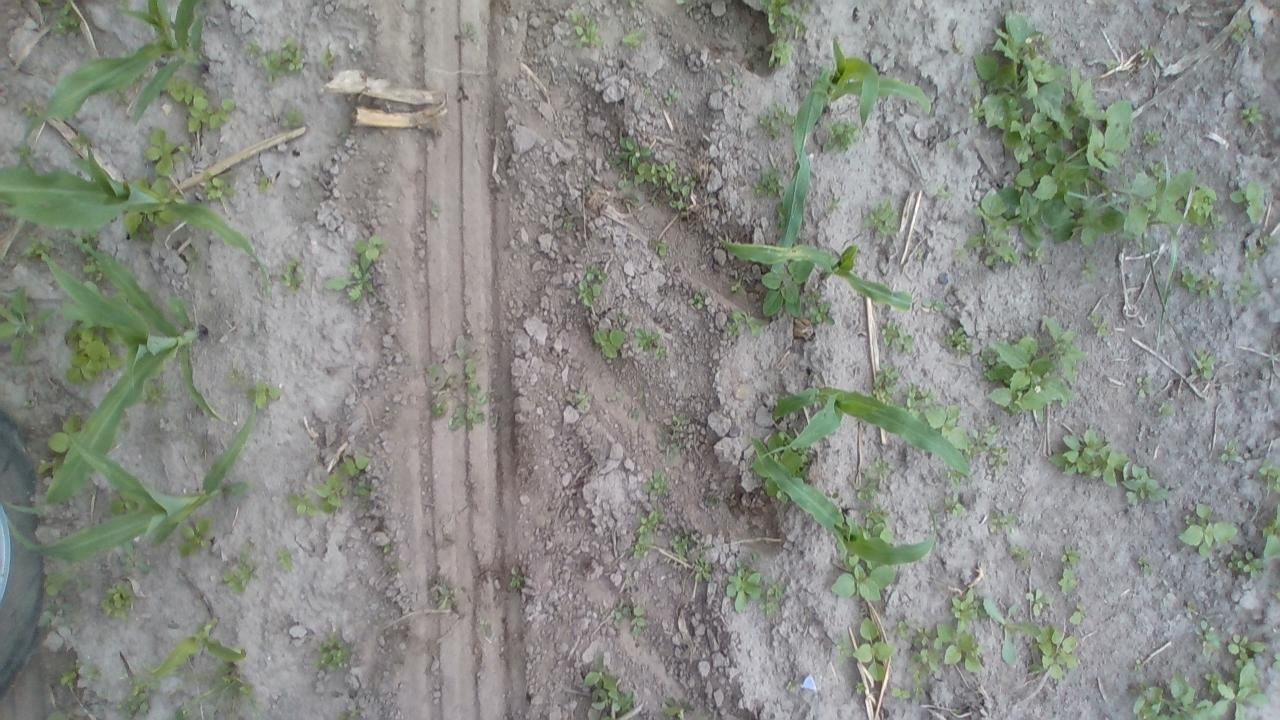Maize: (2, 235, 230, 514), (0, 386, 257, 566), (0, 144, 261, 270), (20, 0, 203, 176), (749, 437, 935, 568), (756, 386, 973, 477), (722, 237, 912, 309), (825, 34, 933, 128), (151, 615, 244, 678)
Weeds: (978, 9, 1198, 245), (1044, 428, 1169, 506), (986, 312, 1080, 412), (1130, 661, 1264, 720), (612, 133, 692, 212), (320, 233, 388, 303), (423, 359, 488, 431), (912, 621, 982, 683), (982, 596, 1041, 666), (0, 282, 53, 356), (166, 77, 234, 131), (188, 667, 260, 717), (1178, 501, 1238, 556), (760, 0, 809, 67), (850, 614, 896, 682), (64, 328, 124, 378), (760, 260, 811, 317), (241, 36, 304, 82), (583, 670, 639, 720), (827, 564, 899, 602), (144, 124, 190, 178), (925, 401, 971, 454), (1036, 624, 1078, 680), (968, 226, 1018, 268), (220, 542, 258, 596), (312, 628, 356, 672), (725, 568, 763, 614), (1230, 179, 1268, 224), (629, 509, 665, 556), (99, 580, 141, 618), (820, 118, 864, 152), (177, 516, 214, 556), (48, 412, 82, 455), (770, 432, 810, 468), (860, 199, 901, 234), (568, 12, 606, 49), (755, 103, 793, 140), (656, 413, 688, 456), (611, 603, 645, 643), (1193, 618, 1223, 662), (1227, 633, 1268, 665), (1191, 178, 1216, 226), (902, 382, 934, 419), (1226, 550, 1268, 577), (316, 472, 344, 512), (122, 683, 157, 715), (1261, 501, 1280, 559), (728, 307, 760, 341), (969, 417, 1000, 452), (248, 382, 286, 410), (594, 324, 626, 357), (52, 4, 81, 40), (1178, 269, 1218, 295), (21, 236, 61, 262), (581, 268, 608, 306), (282, 256, 310, 292), (952, 587, 982, 620), (1188, 345, 1218, 378), (874, 365, 900, 402), (879, 322, 916, 348), (864, 509, 893, 542), (1025, 590, 1054, 622), (752, 170, 785, 197), (195, 172, 230, 197), (940, 492, 969, 521), (123, 543, 149, 574), (284, 491, 316, 516), (338, 456, 374, 478), (1260, 454, 1280, 492), (686, 290, 714, 317), (644, 472, 670, 501), (60, 660, 82, 692), (984, 446, 1010, 473), (1216, 439, 1242, 466), (991, 509, 1019, 534), (633, 327, 661, 351), (1236, 278, 1266, 300), (691, 552, 712, 583), (42, 572, 74, 592), (856, 482, 886, 503), (1068, 600, 1092, 624), (946, 326, 968, 352), (864, 458, 894, 477), (1088, 312, 1108, 340), (671, 535, 694, 559), (1142, 124, 1166, 146), (1230, 18, 1252, 42), (1058, 568, 1078, 594), (833, 638, 856, 660), (774, 202, 788, 237), (810, 302, 832, 324), (1136, 552, 1158, 574), (278, 546, 298, 570), (574, 384, 592, 410), (1244, 100, 1262, 126), (1009, 546, 1032, 566), (125, 212, 142, 238), (1060, 545, 1082, 565), (322, 40, 336, 71), (661, 86, 682, 106), (110, 498, 140, 512), (1134, 374, 1150, 400), (622, 28, 642, 48), (510, 566, 526, 591), (666, 704, 690, 720), (1080, 261, 1100, 280), (944, 470, 966, 487), (921, 298, 944, 314), (768, 580, 787, 599), (282, 109, 306, 124), (1244, 248, 1266, 264), (147, 381, 162, 403), (935, 186, 957, 201), (1201, 237, 1216, 258), (891, 688, 916, 700), (898, 620, 914, 638), (45, 710, 72, 720), (759, 602, 781, 614), (154, 212, 174, 225), (730, 274, 746, 290), (656, 242, 672, 258), (36, 462, 56, 474), (1156, 403, 1176, 415), (1262, 234, 1278, 248), (254, 176, 268, 192), (828, 192, 842, 208), (852, 682, 866, 697), (226, 367, 242, 380), (1140, 48, 1156, 60), (915, 687, 927, 702), (1027, 248, 1046, 257), (951, 246, 966, 257), (746, 552, 761, 562), (630, 406, 641, 419), (356, 488, 372, 496), (1271, 654, 1280, 668), (657, 347, 667, 358)
